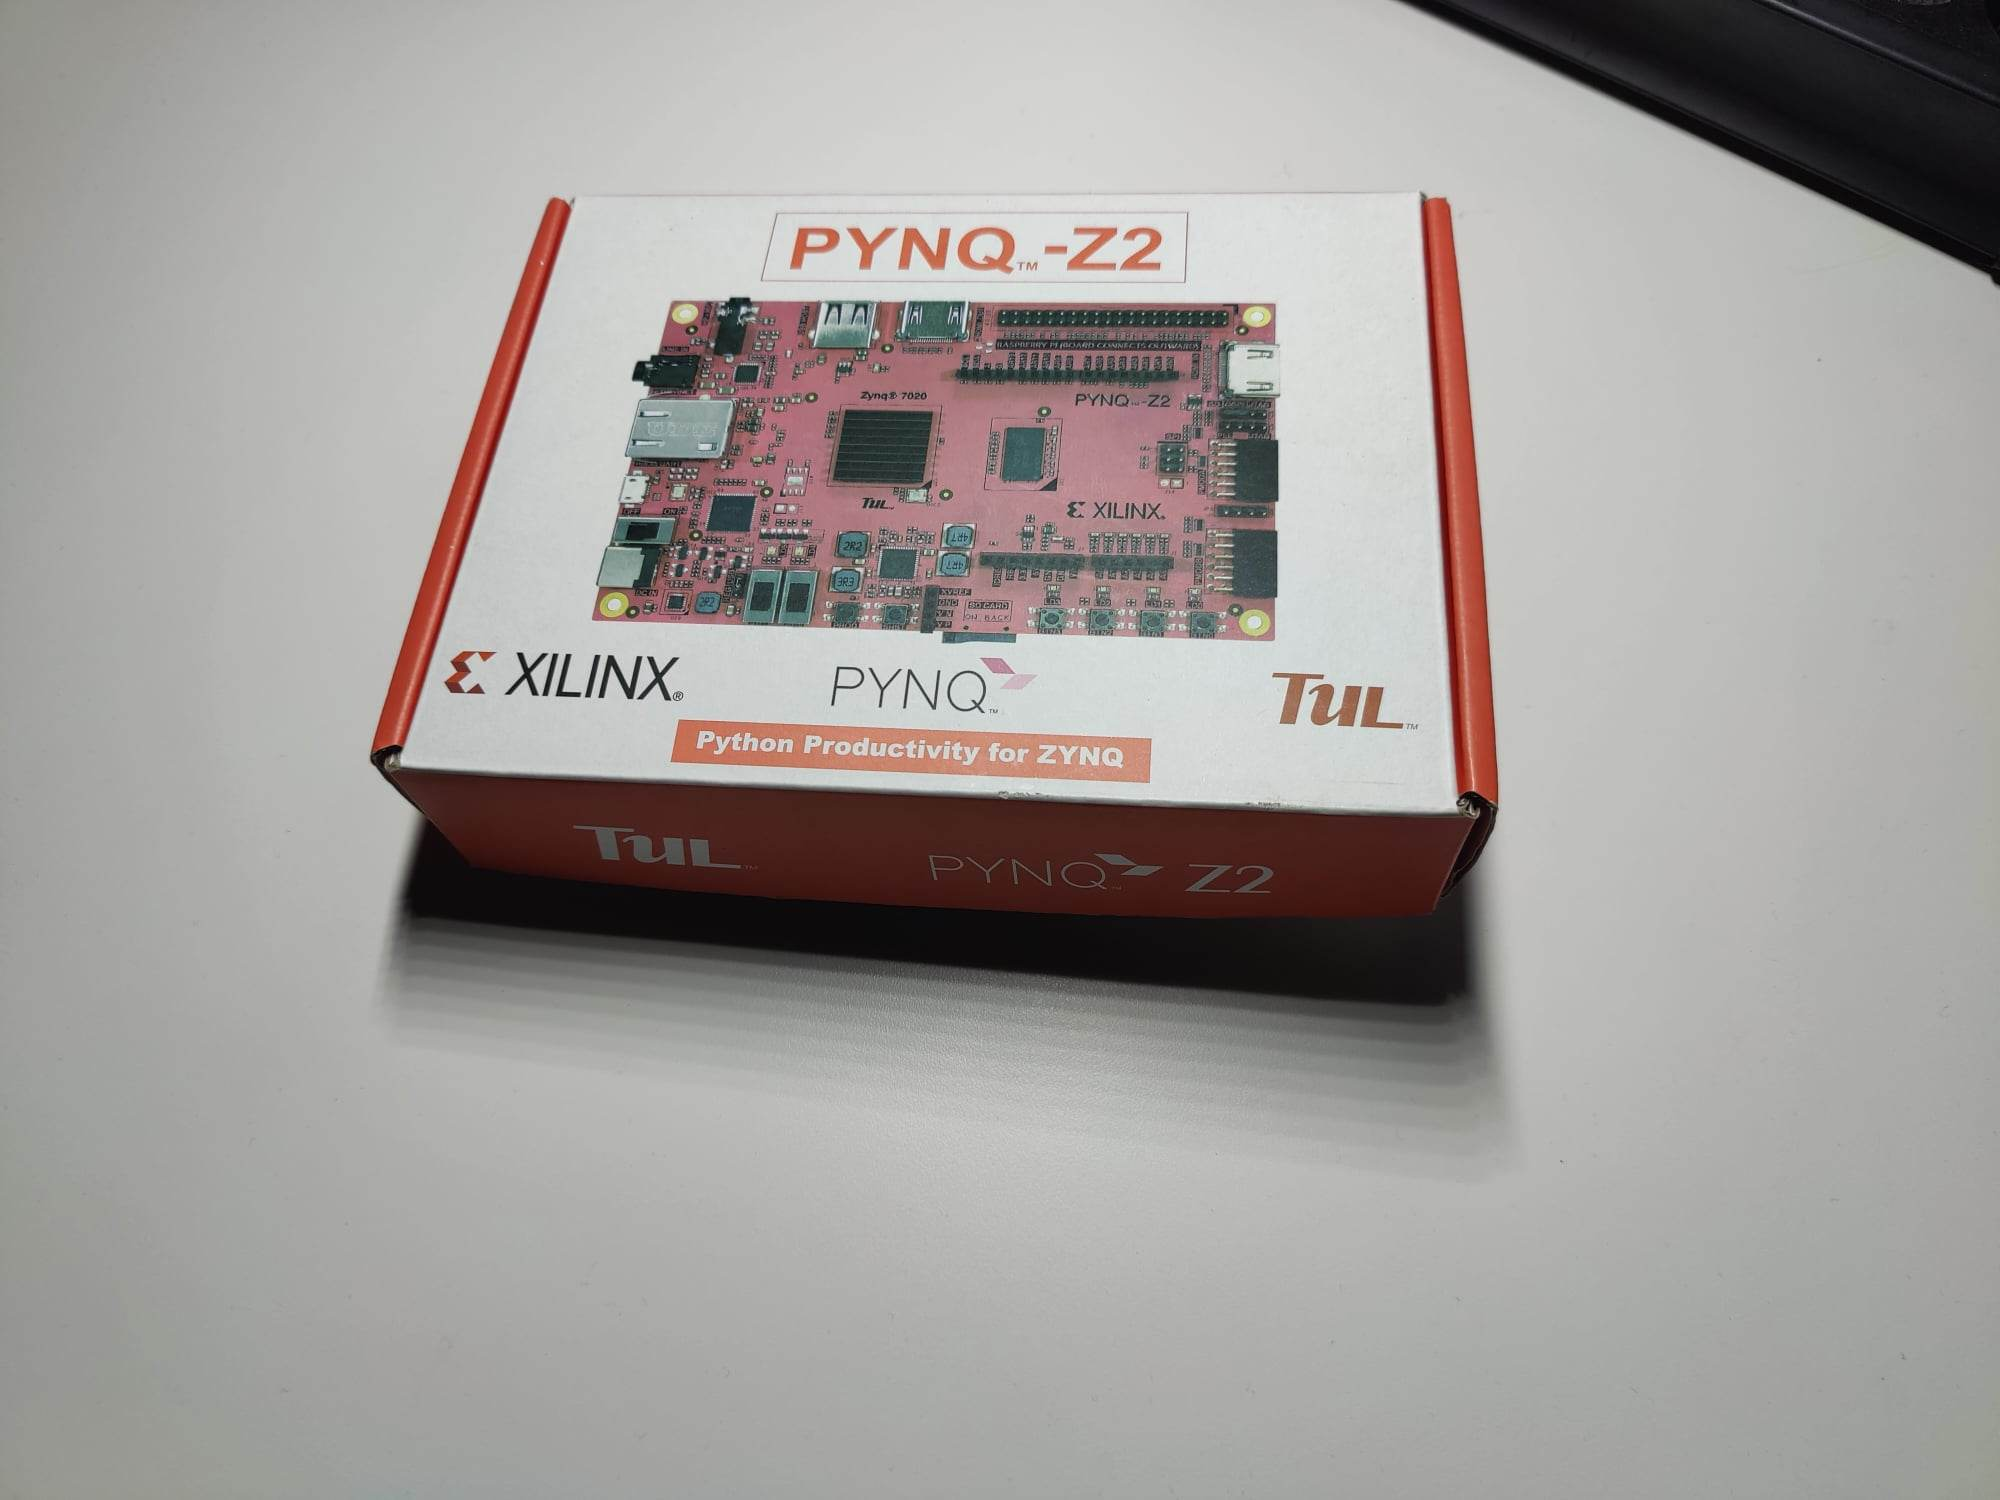PYNQ doos: (334, 139, 1521, 967)
